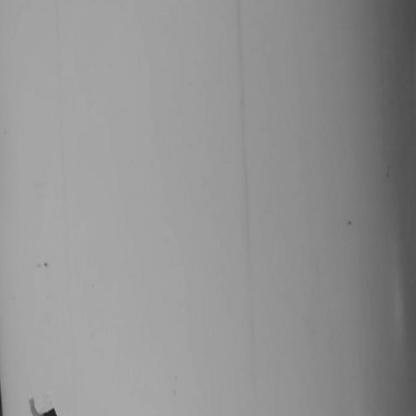kongdong: (20, 387, 72, 416)
